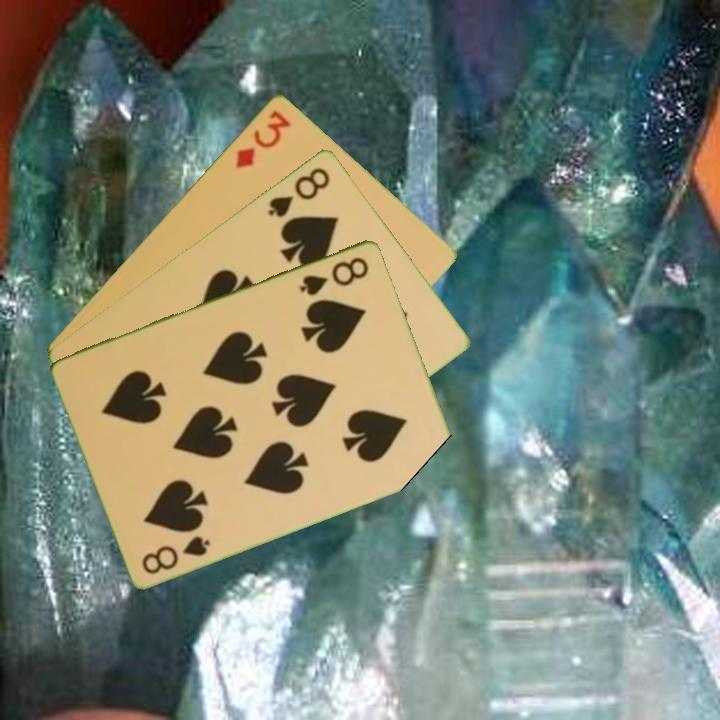3d: (231, 106, 295, 171)
8s: (264, 163, 333, 220), (296, 252, 372, 299), (138, 531, 213, 577)
